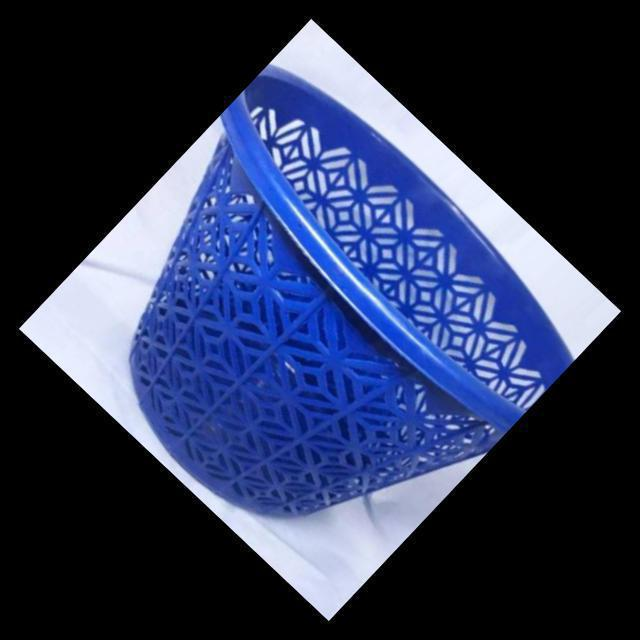Bote de Basura: (40, 60, 590, 608)
